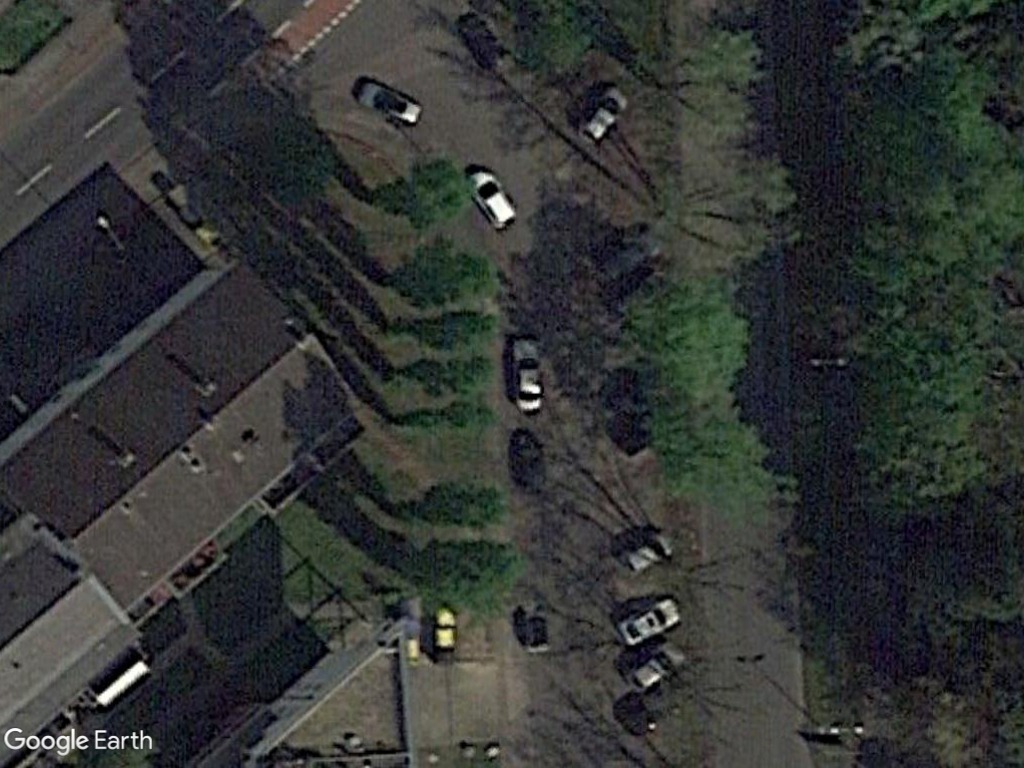car: (345, 70, 429, 136), (570, 72, 632, 157), (501, 327, 553, 419), (617, 644, 695, 704), (461, 160, 523, 234), (612, 589, 686, 650), (614, 522, 682, 585)
